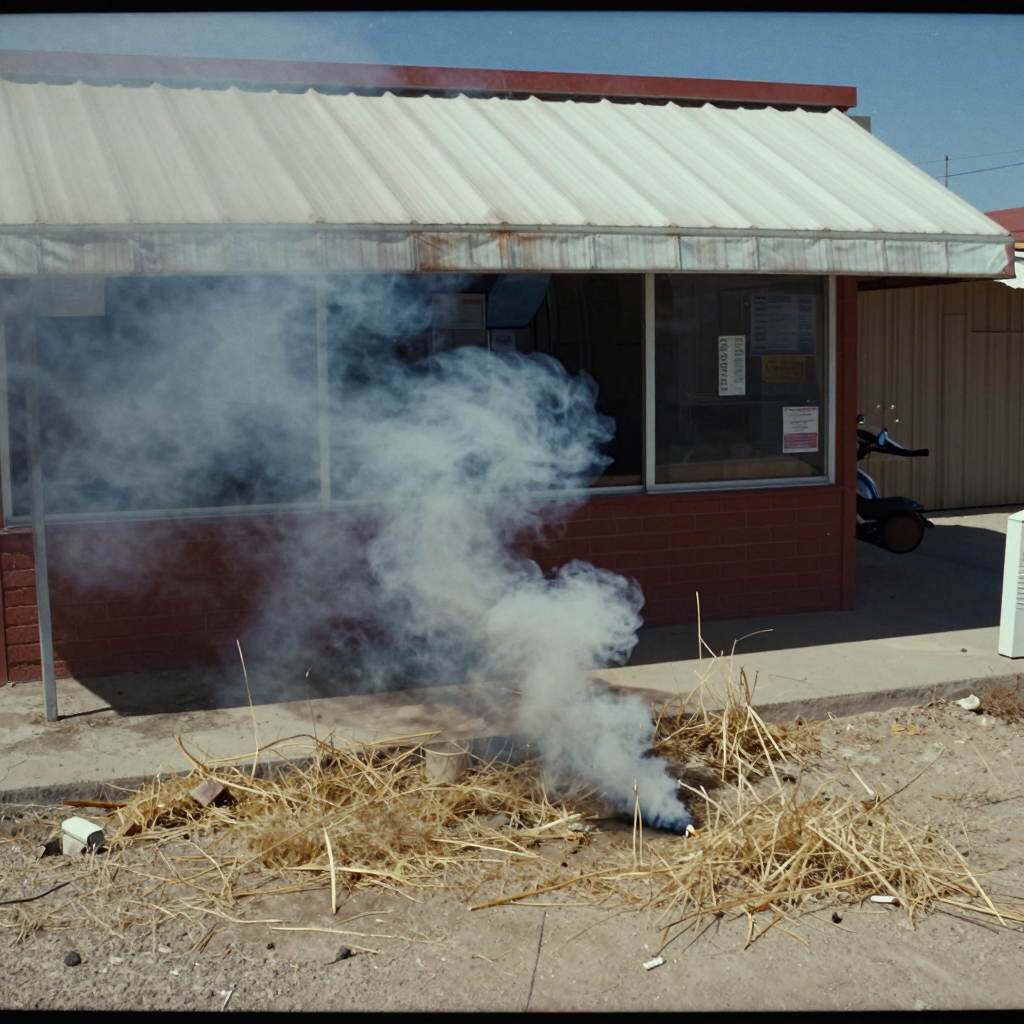Explosion: (13, 204, 701, 833)
